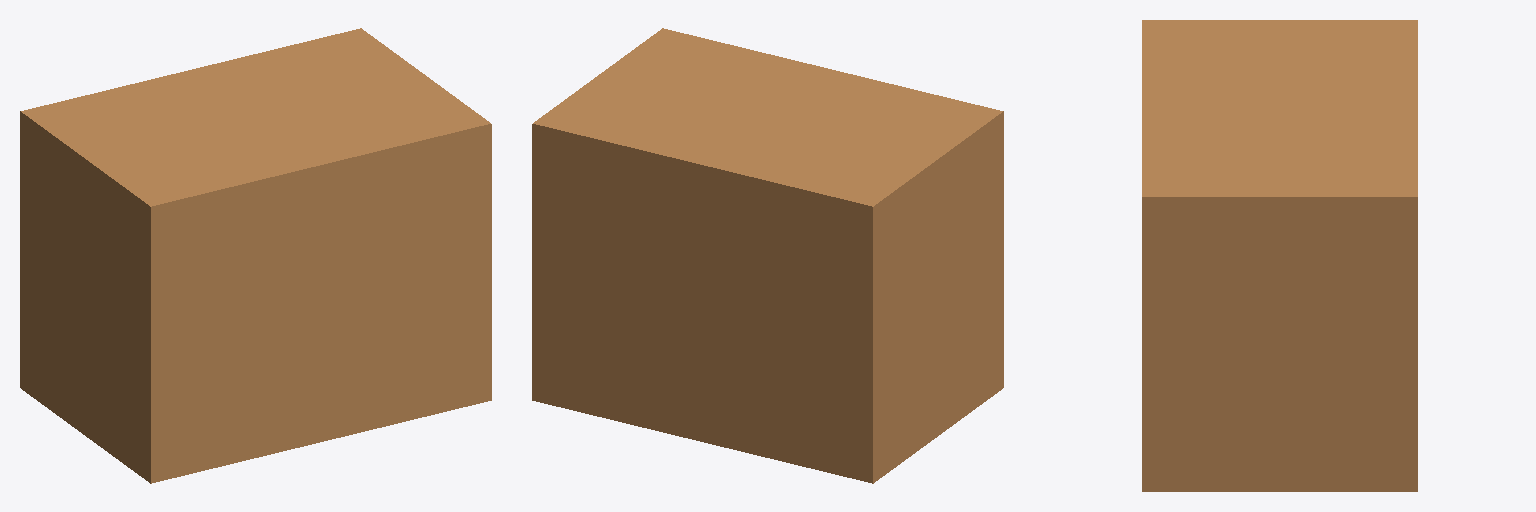
robot.urdf — box:
<?xml version="1.0" ?>
<robot name="box">
   <material name="box_color">
      <color rgba="0.8 0.6 0.4 0.5"/>
   </material>
   
   <link name="box_link">
      <inertial>
         <origin rpy="0 0 0" xyz="0 0 0"/>
         <mass value="4.0"/>
         <inertia ixx="0.1" ixy="0" ixz="0" iyy="0.1" iyz="0" izz="0.1"/>
      </inertial>
      
      <visual>
         <origin rpy="0 0 0" xyz="0 0 0"/>
         <geometry>
            <mesh filename="box.obj" scale="1 1 1"/>
         </geometry>
         <material name="box_color"/>
      </visual>
      
      <collision name="box_collision">
         <origin rpy="0 0 0" xyz="0 0 0"/>
         <geometry>
            <mesh filename="box.obj" scale="1 1 1"/>
         </geometry>
      </collision>
   </link>
</robot> 

--- What the picture shows (computed from the rendered views, not written in the file) ---
The picture shows the robot from 3 angles, left to right: view 1: azimuth 30°, elevation 25°; view 2: azimuth 150°, elevation 25°; view 3: azimuth 270°, elevation 25°; orthographic projection.
Model box with 1 links and 0 joints (none), rooted at box_link, posed all joints at 0.
Links seen in each view (by area): view 1: box_link; view 2: box_link; view 3: box_link.
Link boxes in pixels (x1=…): box_link: x1=20, y1=28, x2=491, y2=483; box_link: x1=532, y1=28, x2=1003, y2=483; box_link: x1=1142, y1=20, x2=1417, y2=491.
Bounding box of the posed robot: 0.296 × 0.196 × 0.23 m (x, y, z).
Meshes: 1 distinct files referenced, 1 mesh visuals loaded (1 OBJ).
